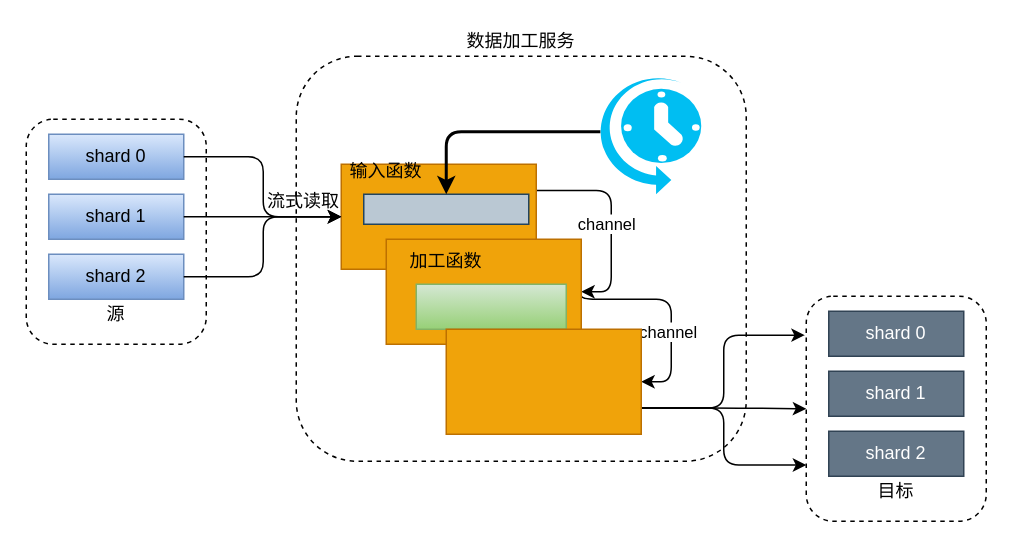
Image size: 1013x548. Some labels were removed from this diagram. Here are the shapes that lost their labels. From the top down, the centre of each, then its label:
At (445,208): "消费者作业-123".
At (490,306): "加工规则 （DSL加工逻辑）".
At (543,381): "输出函数".
